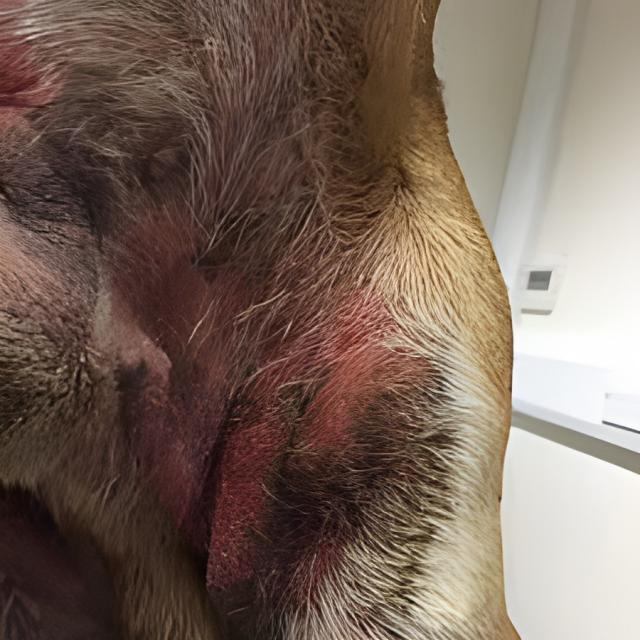di ung bo chet: (2, 107, 416, 632)
